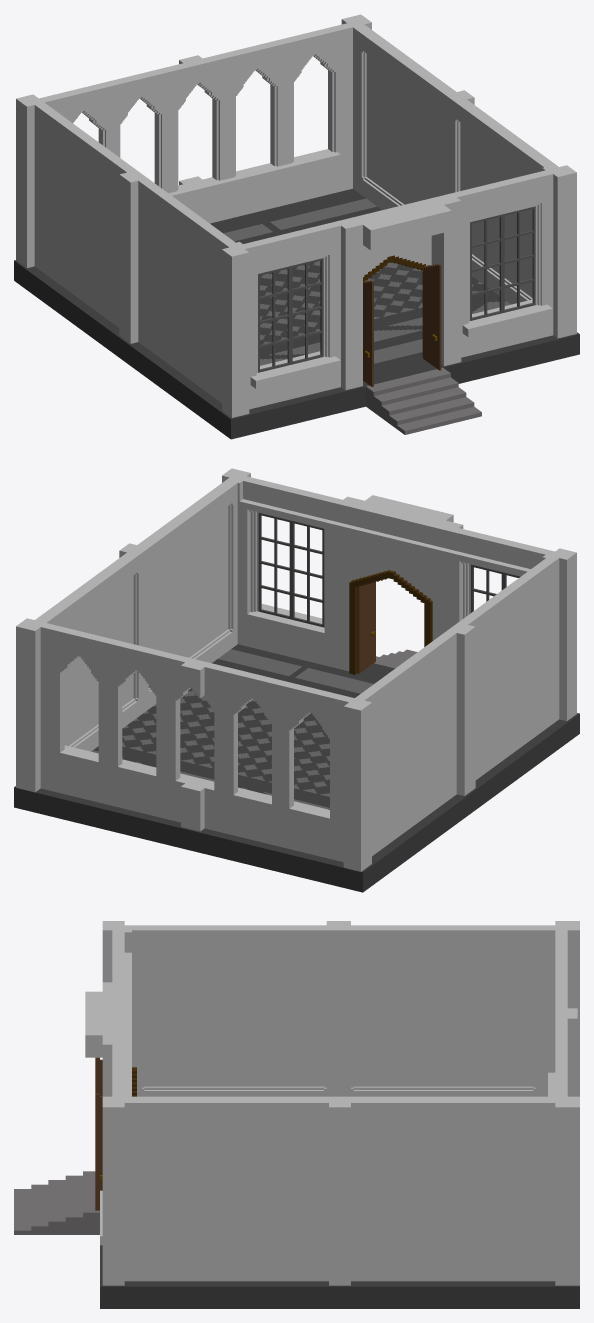
Rendered from Igreja Int.obj.
3 views of the same model, one above another, from view 1: azimuth 30°, elevation 25°; view 2: azimuth 150°, elevation 25°; view 3: azimuth 270°, elevation 25° (orthographic). The views are drawn at different scales.
Bounding box in the file's own units: 18.1 × 9 × 23.
Materials: 1 (1 with a texture image).
